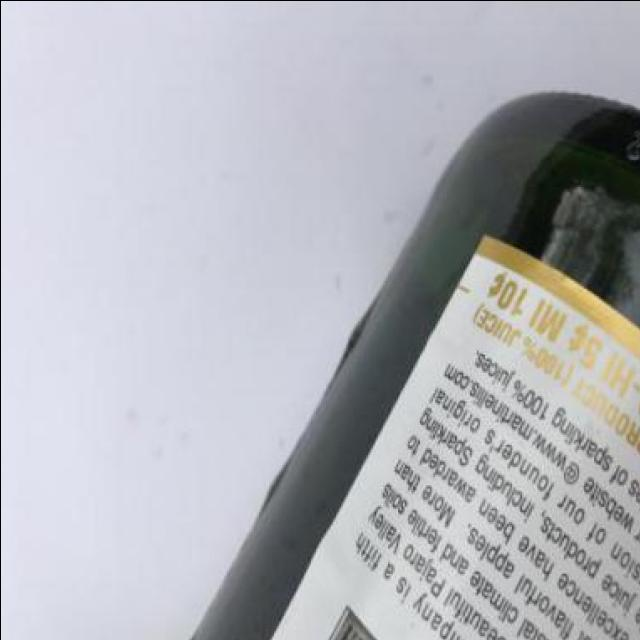kaca: (169, 89, 640, 640)
